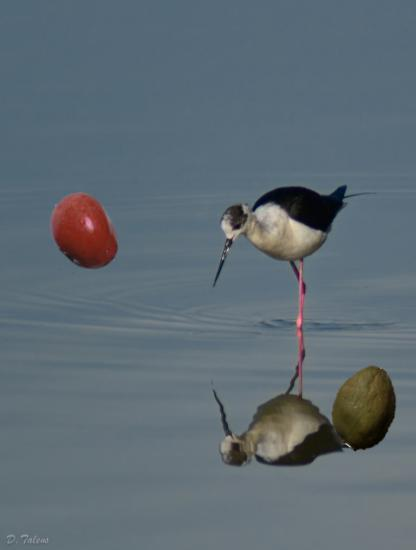Cherry: (45, 191, 127, 273)
Papaya: (325, 367, 408, 450)
